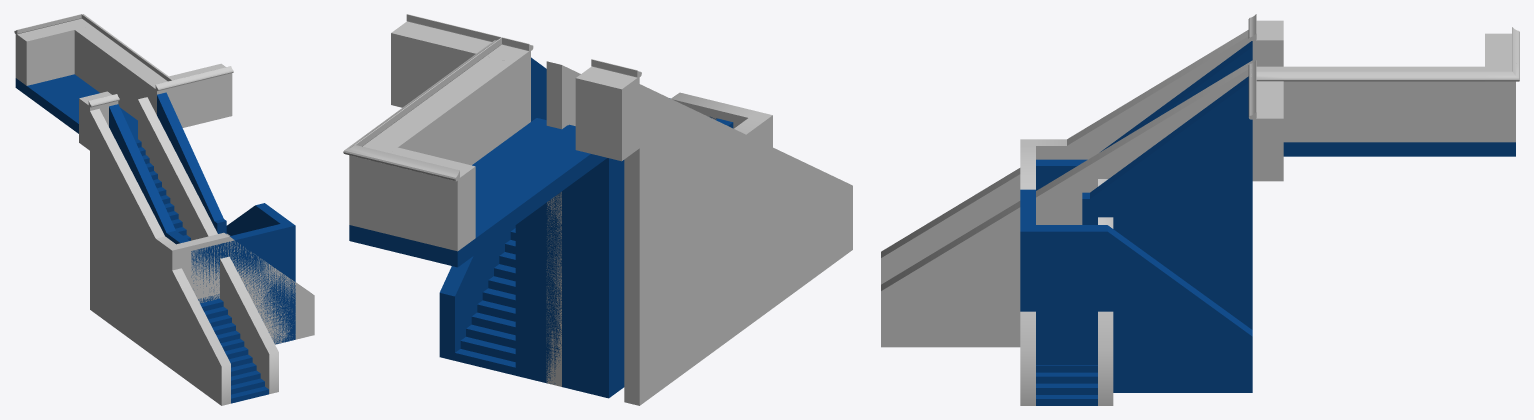
Rendered from Medieval_Stair.fbx.
3 renders of one model, left to right at view 1: azimuth 30°, elevation 25°; view 2: azimuth 150°, elevation 25°; view 3: azimuth 270°, elevation 25°, orthographic. The views are drawn at different scales.
Visible parts, largest first — view 1: HandRail_Left_2, Ext_stairs_02, HandRail_Left, HandRail_Right_2, Crenel_Wall_Stair_2, Crenel_Wall_Stair, Ext_Stair_03, Crenel_Wall_Stair_Little_2, Floor, HandRail_Right, Crenel_Wall_Stair_Little, Crenel_Corner_Stair_Little_1; view 2: HandRail_Left, Ext_stairs_02, HandRail_Left_2, Floor, Crenel_Wall_Stair_2, Crenel_Wall_Stair_Little_2, Crenel_Wall_Stair, Crenel_Wall_Stair_Little, HandRail_Right, Crenel_Corner_Stair_Little_1, HandRail_Right_2, Crenel_Corner_Stair_Little; view 3: Ext_stairs_02, HandRail_Right_2, Crenel_Wall_Stair_2, HandRail_Left_2, HandRail_Left, Crenel_Wall_Stair, Floor, Ext_stairs_04, Crenel_Corner_Stair_Little_1, HandRail_Right, Crenel_Wall_Stair_Little, Crenel_Wall_Stair_Little_2.
Part boxes in pixels (<box>): HandRail_Left_2: <box>90,108,230,405</box>; Ext_stairs_02: <box>109,92,295,344</box>; HandRail_Left: <box>90,111,314,369</box>; HandRail_Right_2: <box>138,97,278,394</box>; Crenel_Wall_Stair_2: <box>74,21,166,120</box>; Crenel_Wall_Stair: <box>146,63,233,127</box>; Ext_Stair_03: <box>136,141,268,403</box>; Crenel_Wall_Stair_Little_2: <box>14,18,74,85</box>; Floor: <box>15,74,137,139</box>; HandRail_Right: <box>138,100,229,240</box>; Crenel_Wall_Stair_Little: <box>79,91,119,150</box>; Crenel_Corner_Stair_Little_1: <box>65,14,95,29</box>; HandRail_Left: <box>624,84,772,405</box>; Ext_stairs_02: <box>439,57,733,398</box>; HandRail_Left_2: <box>624,84,852,405</box>; Floor: <box>349,122,606,267</box>; Crenel_Wall_Stair_2: <box>364,49,513,165</box>; Crenel_Wall_Stair_Little_2: <box>378,147,475,251</box>; Crenel_Wall_Stair: <box>391,14,533,107</box>; Crenel_Wall_Stair_Little: <box>575,59,641,161</box>; HandRail_Right: <box>546,61,575,386</box>; Crenel_Corner_Stair_Little_1: <box>343,133,397,232</box>; HandRail_Right_2: <box>546,61,580,386</box>; Crenel_Corner_Stair_Little: <box>479,37,530,134</box>; Ext_stairs_02: <box>1020,41,1252,392</box>; HandRail_Right_2: <box>881,60,1252,347</box>; Crenel_Wall_Stair_2: <box>1283,66,1484,142</box>; HandRail_Left_2: <box>881,30,1249,284</box>; HandRail_Left: <box>1020,37,1250,405</box>; Crenel_Wall_Stair: <box>1248,60,1283,181</box>; Floor: <box>1283,142,1515,156</box>; Ext_stairs_04: <box>1036,365,1097,405</box>; Crenel_Corner_Stair_Little_1: <box>1485,60,1519,142</box>; HandRail_Right: <box>1098,179,1113,405</box>; Crenel_Wall_Stair_Little: <box>1248,14,1283,66</box>; Crenel_Wall_Stair_Little_2: <box>1485,27,1519,66</box>.
Bounding box in the file's own units: 300 × 419 × 825.
